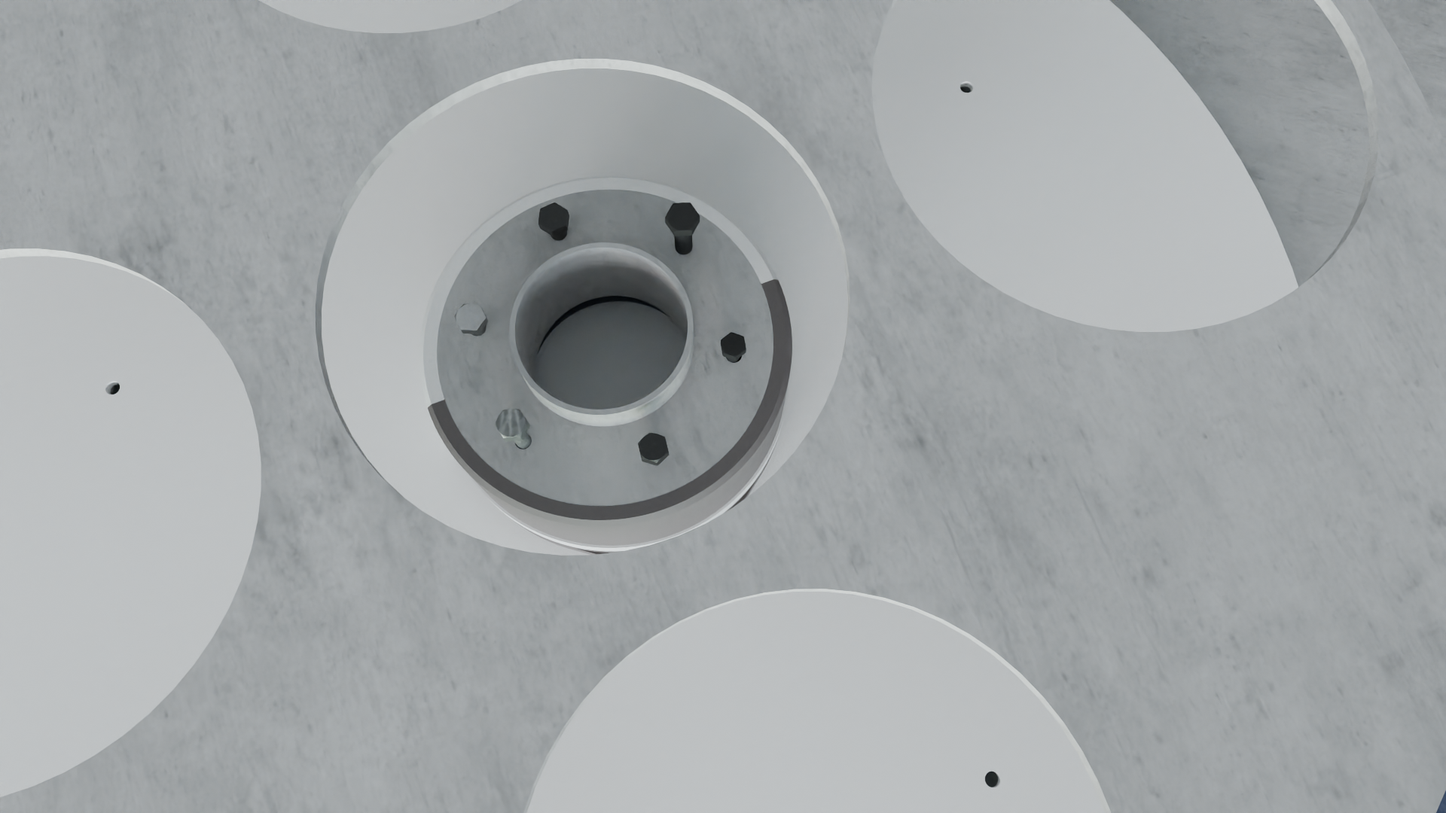bolt: (665, 202, 700, 231), (495, 409, 528, 438), (638, 433, 669, 463), (538, 202, 568, 232), (454, 303, 486, 330), (721, 332, 746, 358)
